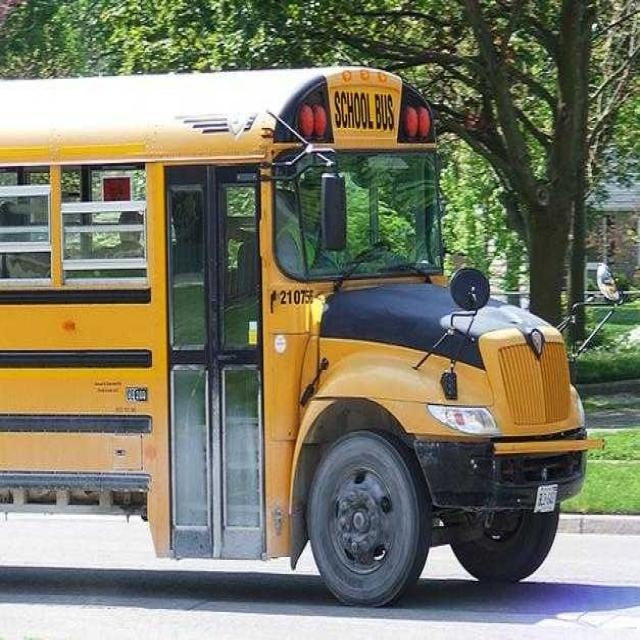Bus: (0, 55, 614, 618)
